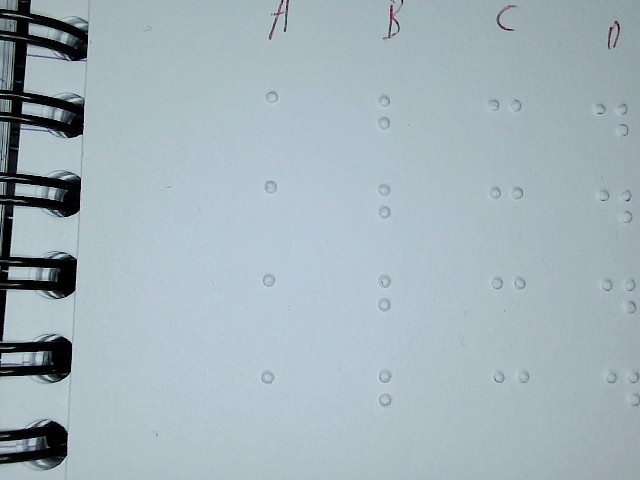A: (262, 86, 306, 162), (261, 175, 305, 251), (259, 268, 303, 344), (257, 365, 301, 441)
B: (375, 90, 415, 157), (375, 179, 415, 246), (375, 270, 415, 337), (375, 363, 415, 430)
C: (484, 94, 528, 154), (486, 183, 530, 243), (487, 271, 531, 331), (489, 366, 533, 426)
